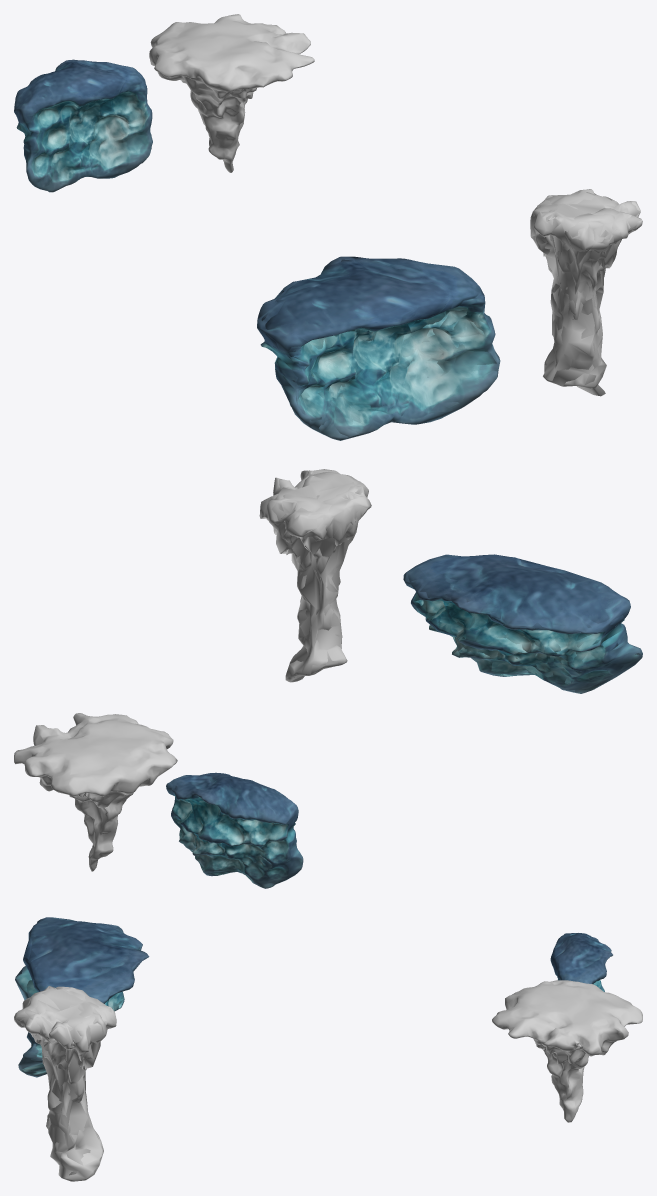
The model's file is WinterAssets_Cliffs00.fbx.
The picture shows the model from 3 angles, top to bottom: view 1: azimuth 30°, elevation 25°; view 2: azimuth 150°, elevation 25°; view 3: azimuth 270°, elevation 25°; orthographic projection. The views are drawn at different scales.
Visible parts, largest first — view 1: WinterCliff01_LOD010, WinterCliff01_LOD011, WinterCliff01_LOD000, WinterCliff00_LOD000, WinterCliff00_LOD010, WinterCliff00_LOD011; view 2: WinterCliff01_LOD010, WinterCliff00_LOD000, WinterCliff01_LOD000, WinterCliff01_LOD011, WinterCliff00_LOD010, WinterCliff00_LOD011; view 3: WinterCliff00_LOD000, WinterCliff00_LOD010, WinterCliff01_LOD010, WinterCliff00_LOD011, WinterCliff01_LOD011, WinterCliff01_LOD000.
Boxes of the visible parts, x1=… form: WinterCliff01_LOD010: x1=257, y1=256, x2=500, y2=440; WinterCliff01_LOD011: x1=261, y1=258, x2=500, y2=440; WinterCliff01_LOD000: x1=14, y1=59, x2=152, y2=192; WinterCliff00_LOD000: x1=149, y1=14, x2=314, y2=172; WinterCliff00_LOD010: x1=530, y1=189, x2=642, y2=396; WinterCliff00_LOD011: x1=531, y1=190, x2=641, y2=388; WinterCliff01_LOD010: x1=403, y1=554, x2=642, y2=693; WinterCliff00_LOD000: x1=14, y1=713, x2=177, y2=871; WinterCliff01_LOD000: x1=166, y1=772, x2=303, y2=888; WinterCliff01_LOD011: x1=407, y1=554, x2=638, y2=691; WinterCliff00_LOD010: x1=259, y1=469, x2=371, y2=682; WinterCliff00_LOD011: x1=261, y1=469, x2=368, y2=681; WinterCliff00_LOD000: x1=492, y1=980, x2=642, y2=1122; WinterCliff00_LOD010: x1=14, y1=986, x2=116, y2=1181; WinterCliff01_LOD010: x1=15, y1=917, x2=149, y2=1077; WinterCliff00_LOD011: x1=15, y1=986, x2=115, y2=1175; WinterCliff01_LOD011: x1=16, y1=918, x2=148, y2=1077; WinterCliff01_LOD000: x1=550, y1=933, x2=612, y2=991.
Size of what is drawn, in the model's own units: 259 by 136 by 453.
